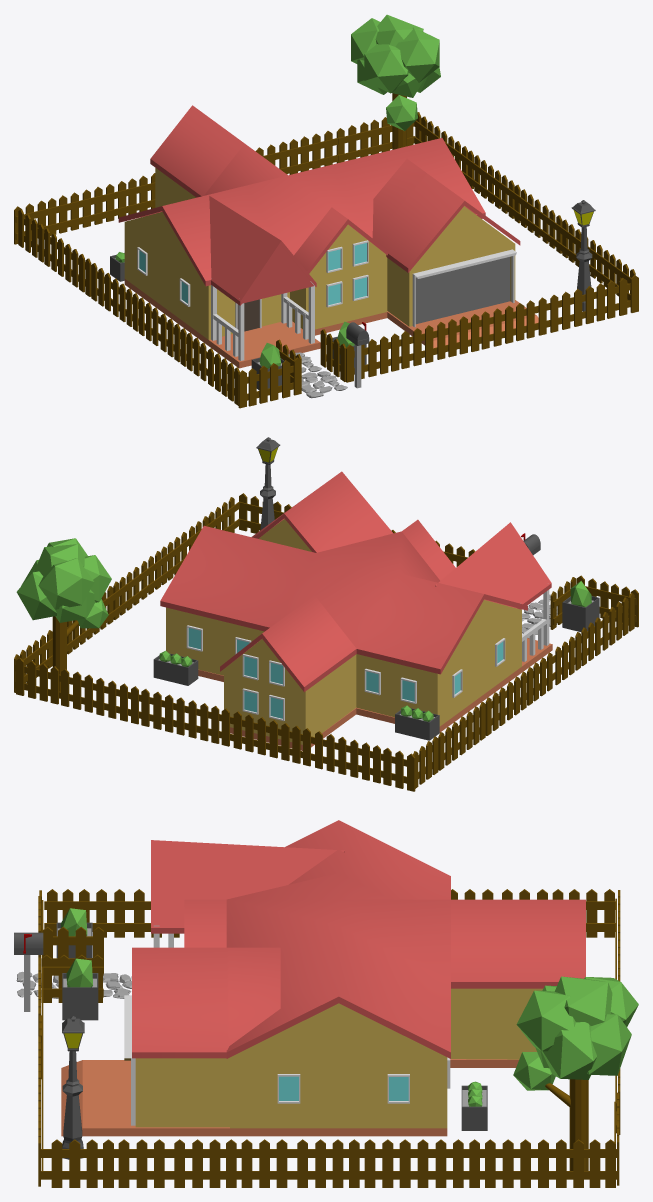
The picture shows the model from 3 angles, top to bottom: view 1: azimuth 30°, elevation 25°; view 2: azimuth 150°, elevation 25°; view 3: azimuth 270°, elevation 25°; orthographic projection. The views are drawn at different scales.
Visible parts, largest first — view 1: cit1_pCube7; view 2: cit1_pCube7; view 3: cit1_pCube7.
Boxes of the visible parts, x1=… form: cit1_pCube7: x1=14, y1=14, x2=638, y2=408; cit1_pCube7: x1=14, y1=437, x2=638, y2=791; cit1_pCube7: x1=14, y1=820, x2=638, y2=1187.
Size of the model in its own units: 25.23 by 8.74 by 26.2.
